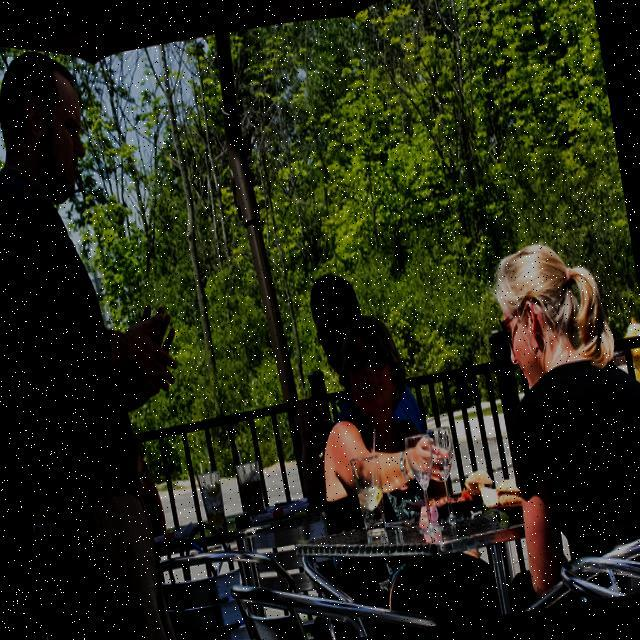fire_hydrant: (618, 312, 640, 390)
